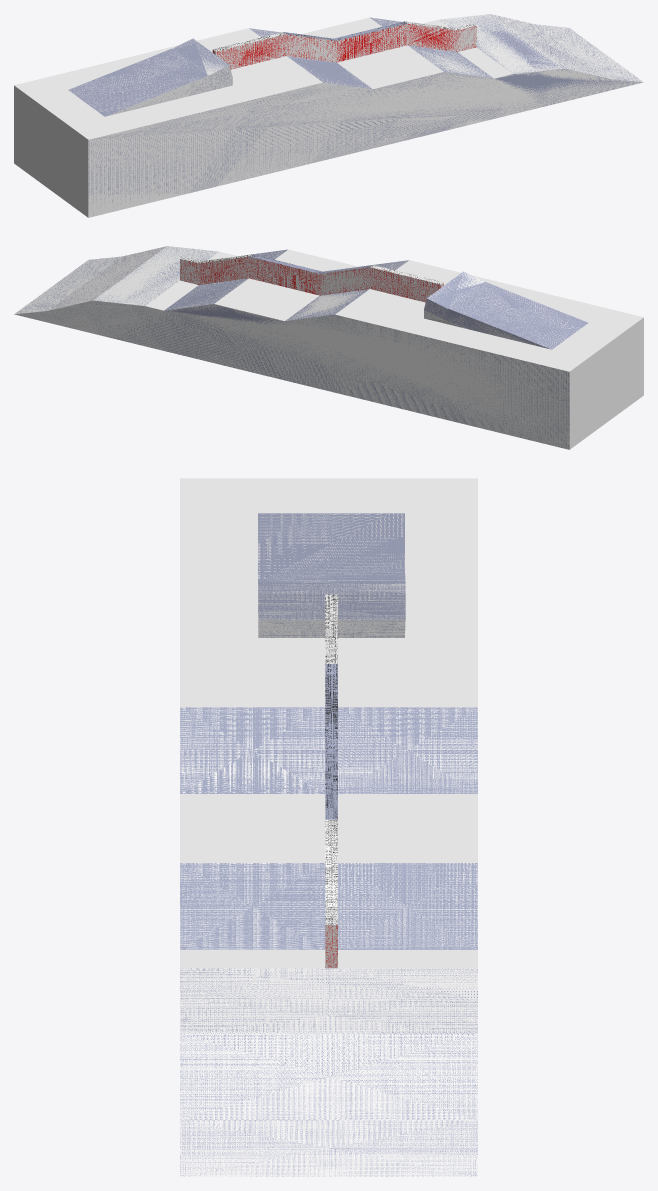
The model's file is snowboard_rail.fbx.
3 renders of one model, top to bottom at view 1: azimuth 30°, elevation 25°; view 2: azimuth 150°, elevation 25°; view 3: azimuth 270°, elevation 25°, orthographic. The views are drawn at different scales.
Visible parts, largest first — view 1: Model; view 2: Model; view 3: Model.
Boxes of the visible parts, <box> form: Model: <box>14,14,643,217</box>; Model: <box>14,246,643,449</box>; Model: <box>180,478,477,1176</box>.
Size of the model in its own units: 36.77 by 6.31 by 8.53.
